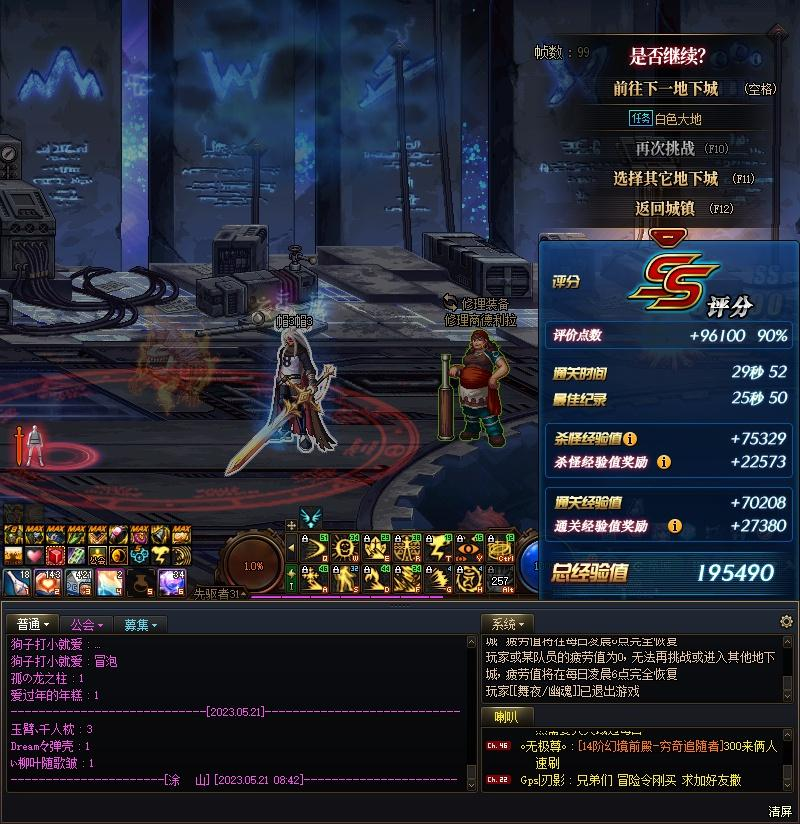-: (623, 134, 736, 164)
